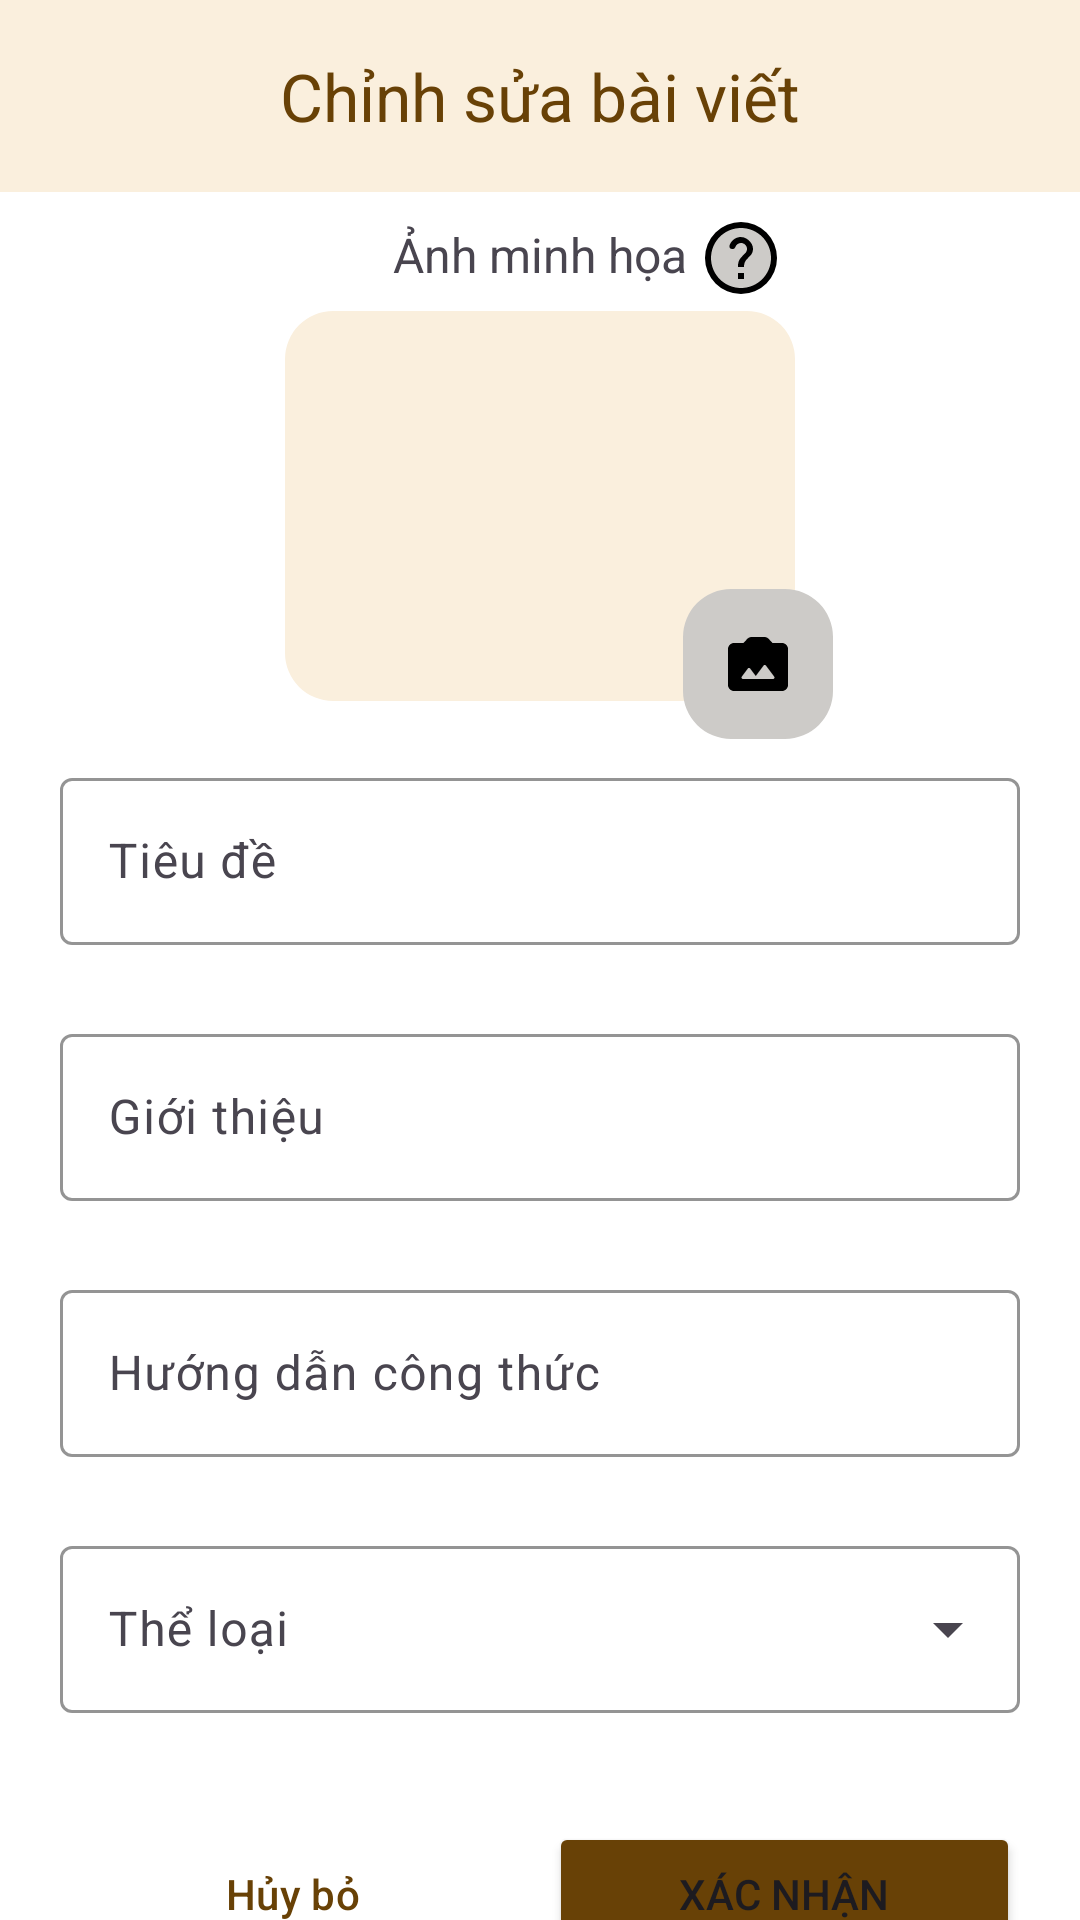

Where icons sit on this 1080×1920 app screen, as (x1, y1, x2, y2):
camera: (683, 589, 833, 739)
help: (705, 222, 777, 294)
